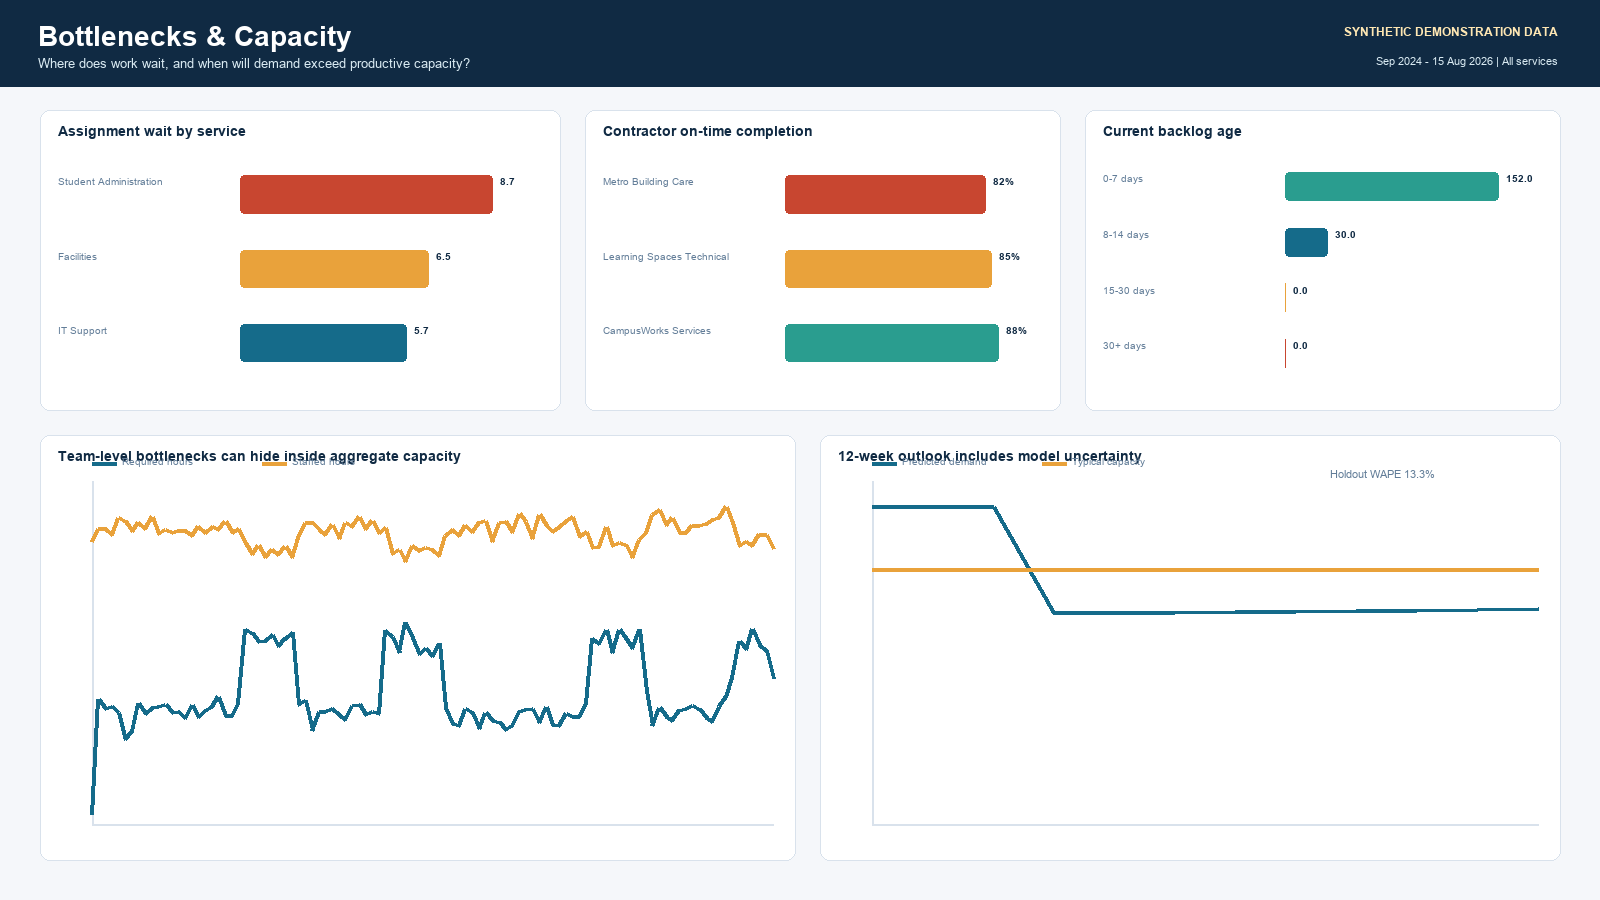

The dashboard page shown, as its layout file describes it:
{"tool":"powerbi","page":{"name":"Bottlenecks & Capacity","canvas":[1920,1080],"ordinal":1},"visuals":[{"type":"clusteredBarChart","title":"Where work waits (median business hours)","fields":{"Category":["DimService.service_name"],"Y":["_Measures.Median Triage Business Hours","_Measures.Median Assignment Business Hours","_Measures.Median Resolution Business Hours"]},"box":[15,90,620,470],"z":0},{"type":"clusteredColumnChart","title":"Current backlog age (days open)","fields":{"Category":["AgeingBand.band"],"Y":["_Measures.Open Backlog by Age Band"]},"box":[650,90,620,470],"z":1000},{"type":"lineChart","title":"Weekly demand: actual vs forecast with 95% interval (12 weeks ahead)","fields":{"Y":["Sum(FactDemandForecast.actual_cases)","Sum(FactDemandForecast.predicted_cases)","Sum(FactDemandForecast.lower_95_cases)","Sum(FactDemandForecast.upper_95_cases)"],"Category":["FactDemandForecast.week_start"]},"box":[15,575,940,490],"z":2000},{"type":"lineClusteredColumnComboChart","title":"Required vs staffed hours by month (line = capacity gap; negative = spare capacity)","fields":{"Y":["Sum(FactCapacityWeekly.required_handle_hours)","Sum(FactCapacityWeekly.staffed_hours)"],"Y2":["_Measures.Capacity Gap Hours"],"Category":["DimDate.year_month"]},"box":[965,575,940,490],"z":3000},{"type":"pivotTable","title":"Facilities contractors: on-time and rework by campus","fields":{"Rows":["DimCampus.campus_name","FactWorkOrder.category"],"Values":["_Measures.Contractor On Time %","_Measures.Contractor Rework %"]},"box":[1285,90,620,470],"z":4000},{"type":"textbox","box":[15,10,1150,70],"z":4001},{"type":"slicer","fields":{"Values":["DimService.service_name"]},"box":[1210,5,340,80],"z":4002},{"type":"slicer","fields":{"Values":["DimCampus.campus_name"]},"box":[1565,5,340,80],"z":4003}]}

Visuals, with their boxes in screenshot pixels (x1, y1, x2, y2), scaled from the page's 1920x1080 canvas onto the 1600x900 screenshot:
"Where work waits (median business hours)" clusteredBarChart: crop(12, 75, 529, 467)
"Current backlog age (days open)" clusteredColumnChart: crop(542, 75, 1058, 467)
"Weekly demand: actual vs forecast with 95% interval (12 weeks ahead)" lineChart: crop(12, 479, 796, 888)
"Required vs staffed hours by month (line = capacity gap; negative = spare capacity)" lineClusteredColumnComboChart: crop(804, 479, 1588, 888)
"Facilities contractors: on-time and rework by campus" pivotTable: crop(1071, 75, 1588, 467)
textbox: crop(12, 8, 971, 67)
slicer - DimService.service_name: crop(1008, 4, 1292, 71)
slicer - DimCampus.campus_name: crop(1304, 4, 1588, 71)
